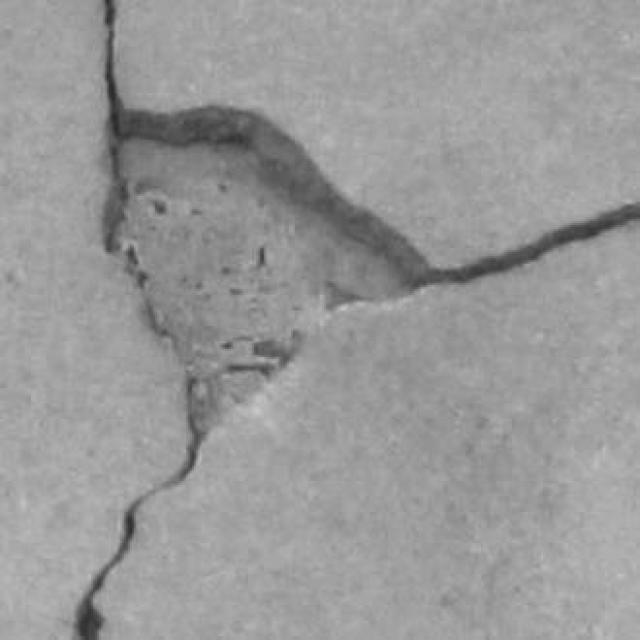crack: (103, 0, 639, 290), (111, 107, 434, 434), (117, 105, 639, 290), (76, 377, 217, 639), (417, 204, 639, 288)
